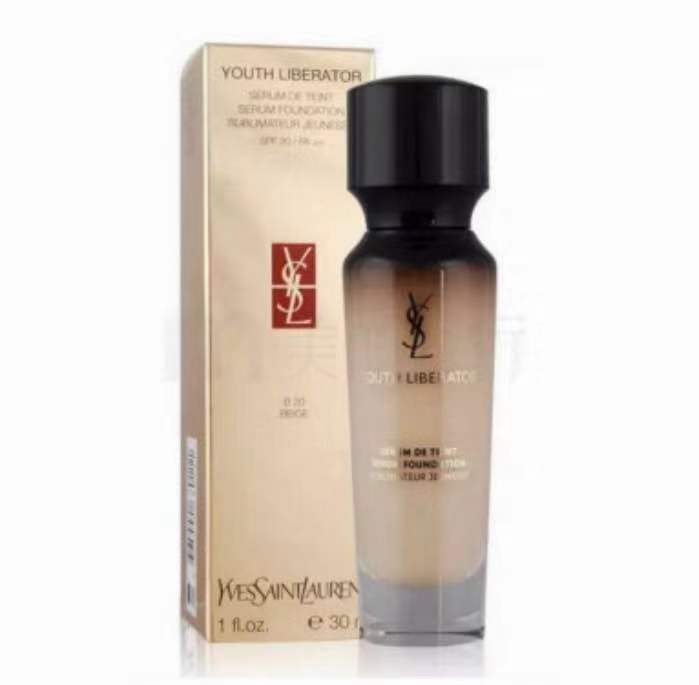cosmetic: (342, 86, 498, 646)
